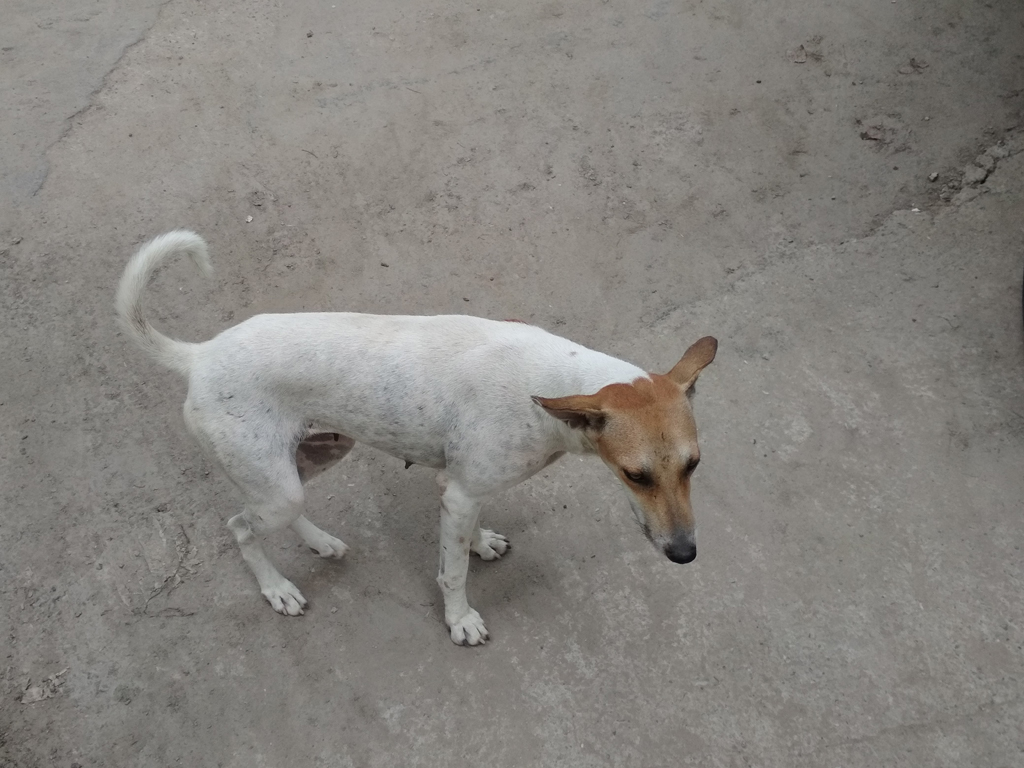dog: (114, 230, 721, 643)
